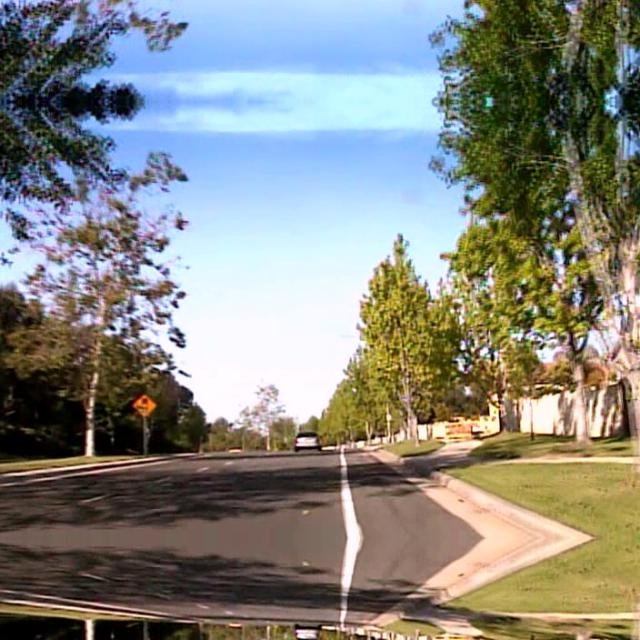signalAhead: (131, 392, 157, 416)
